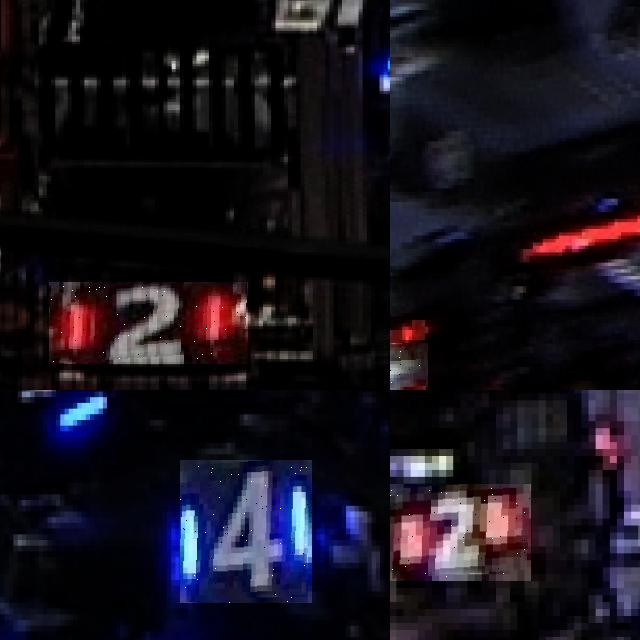B4: (180, 460, 312, 603), (4, 390, 124, 442)
R2: (49, 282, 248, 364), (390, 483, 531, 581)
